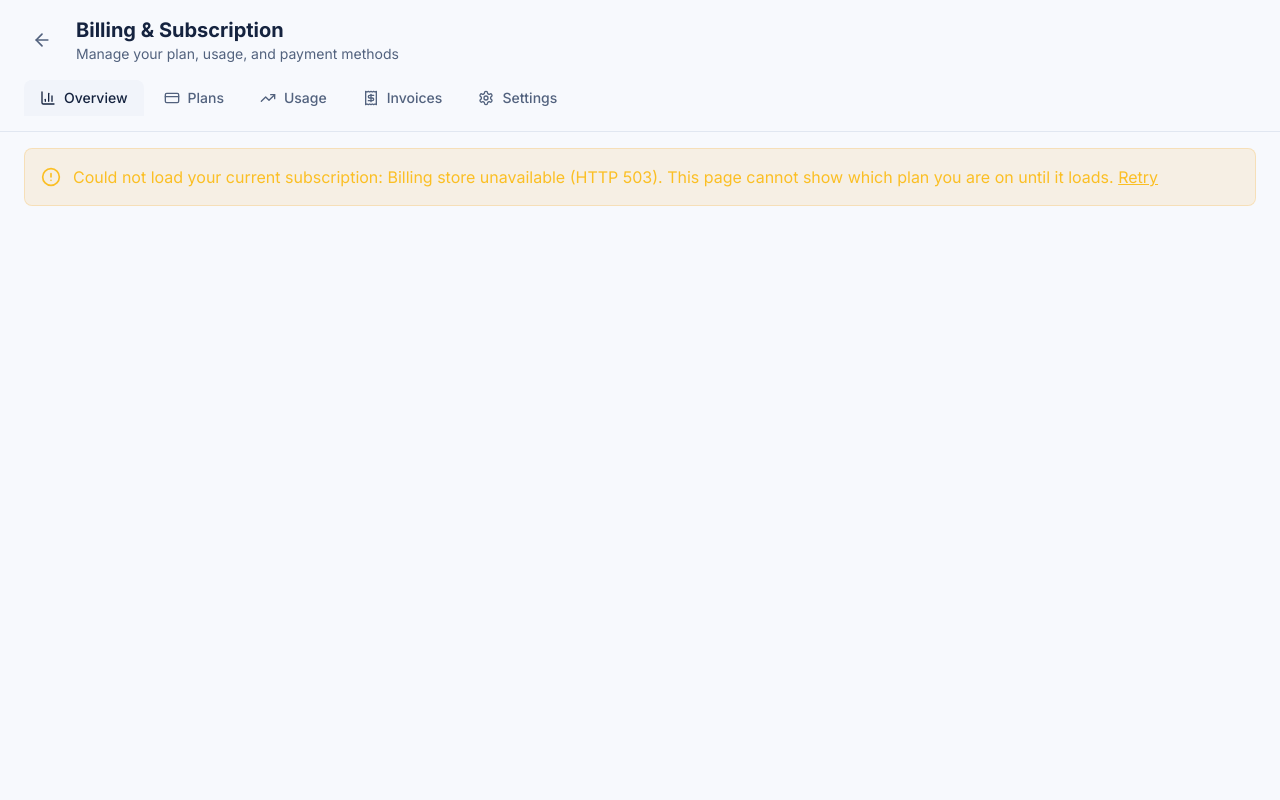
Scenario: Billing subscription load failures › keeps the rest of the page usable when the subscription fails
The image size is (1280, 800).
Expected: the message is shown, x1=24 y1=148 x2=1256 y2=206
Click the button "Plans" at {"x": 194, "y": 98}, box x1=148 y1=80 x2=240 y2=116
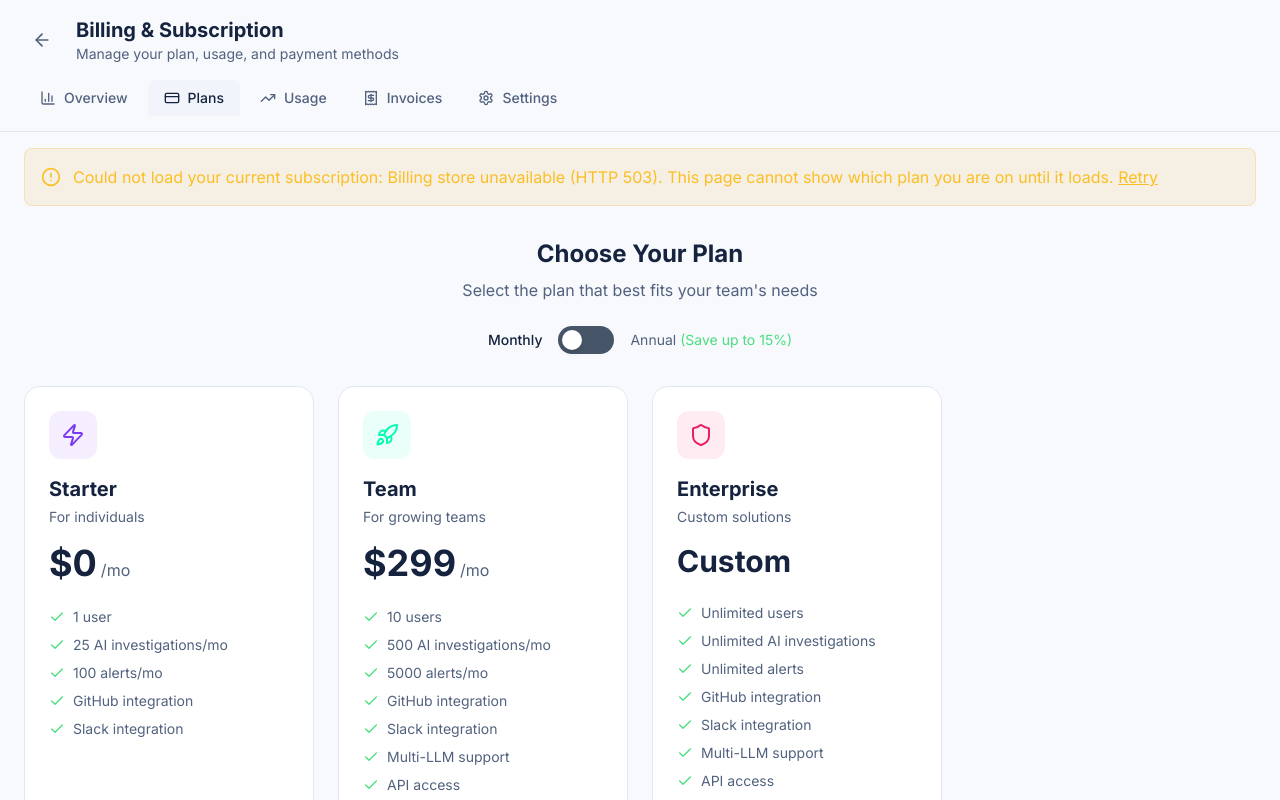
Expected: the heading "Team" is shown, x1=363 y1=477 x2=417 y2=501
